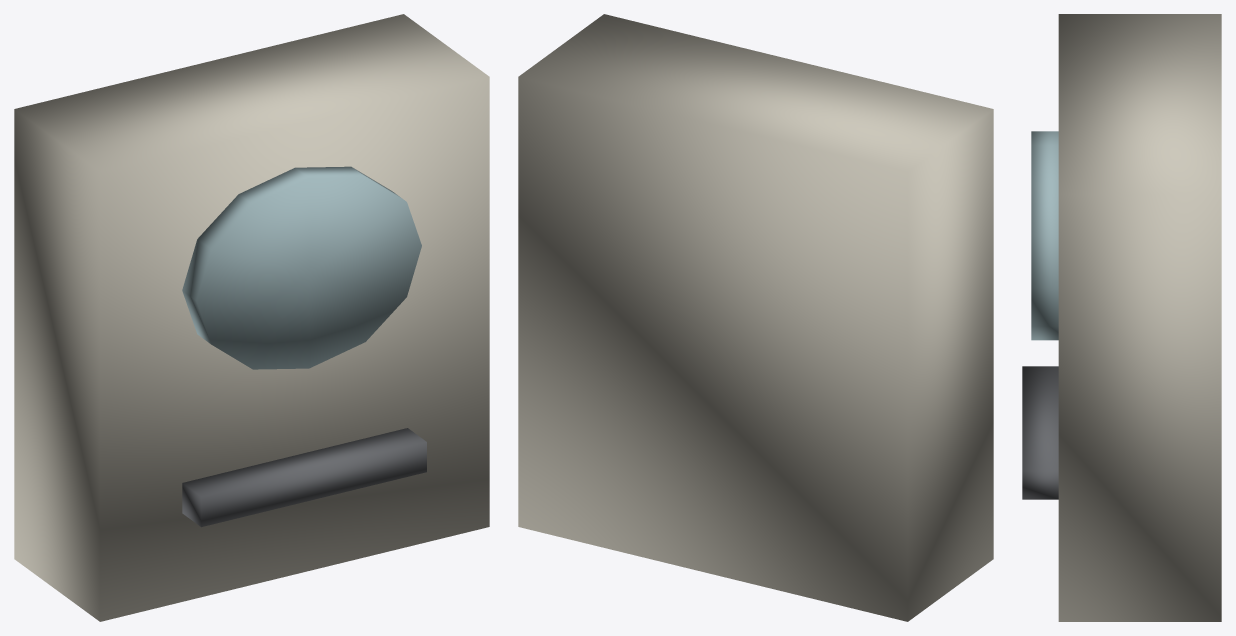
Rendered from employee_punch_clock__wide.glb.
The picture shows the model from 3 angles, left to right: view 1: azimuth 30°, elevation 25°; view 2: azimuth 150°, elevation 25°; view 3: azimuth 270°, elevation 25°; orthographic projection. The views are drawn at different scales.
Parts seen in each view (by area): view 1: world; view 2: world; view 3: world.
Boxes of the visible parts, box(x1,y1,x2,y2) form: world: box(14, 14, 489, 621); world: box(518, 14, 993, 621); world: box(1022, 14, 1221, 621).
Size of the model in its own units: 0.4712 by 0.52 by 0.22.
